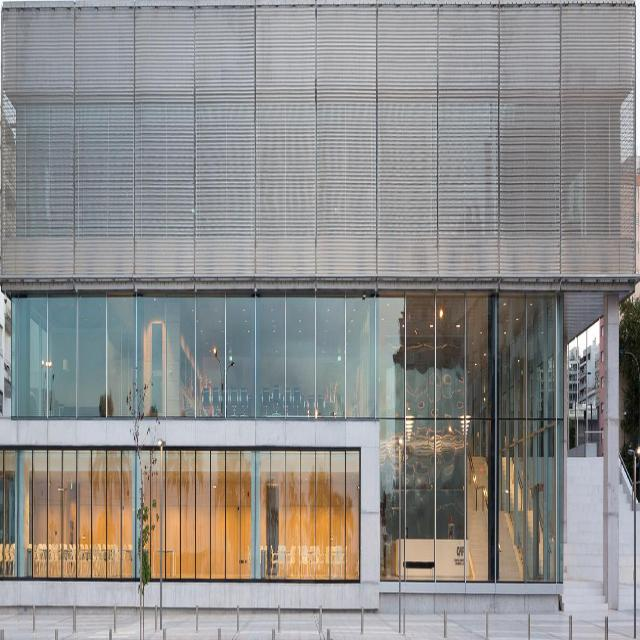window: (11, 294, 558, 587), (16, 443, 361, 588)
